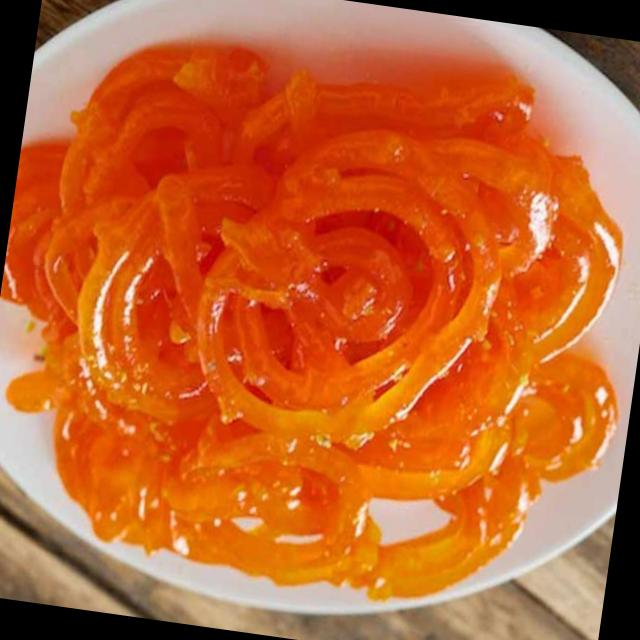jalebi: (0, 27, 631, 613)
